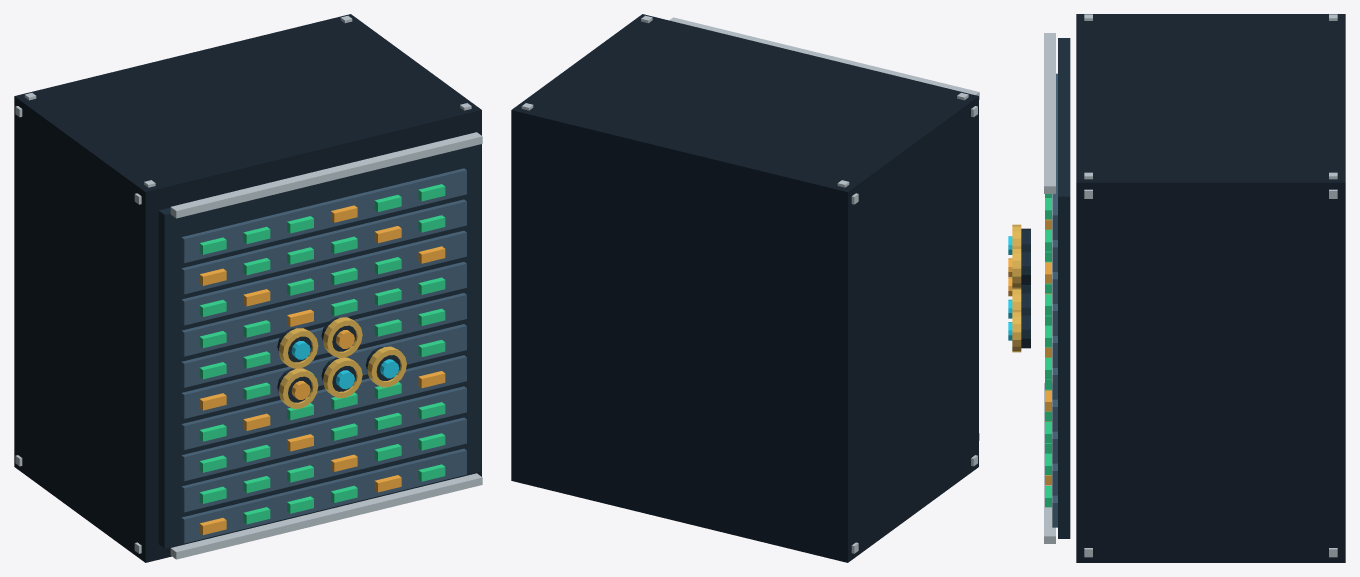
The model's file is 58_L81_Regulated5VControlSupply.fbx.
The picture shows the model from 3 angles, left to right: view 1: azimuth 30°, elevation 25°; view 2: azimuth 150°, elevation 25°; view 3: azimuth 270°, elevation 25°; orthographic projection. The views are drawn at different scales.
Parts seen in each view (by area): view 1: Regulated5VControlSupply; view 2: Regulated5VControlSupply; view 3: Regulated5VControlSupply.
Part boxes in pixels (x1,y1,x2,y2): Regulated5VControlSupply: [14, 14, 482, 562]; Regulated5VControlSupply: [511, 14, 979, 562]; Regulated5VControlSupply: [1008, 14, 1345, 562].
Size of the model in its own units: 116 by 122 by 96.45.
